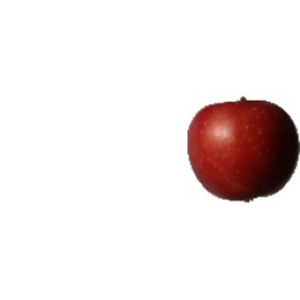maçã braeburn: (184, 97, 300, 203)
